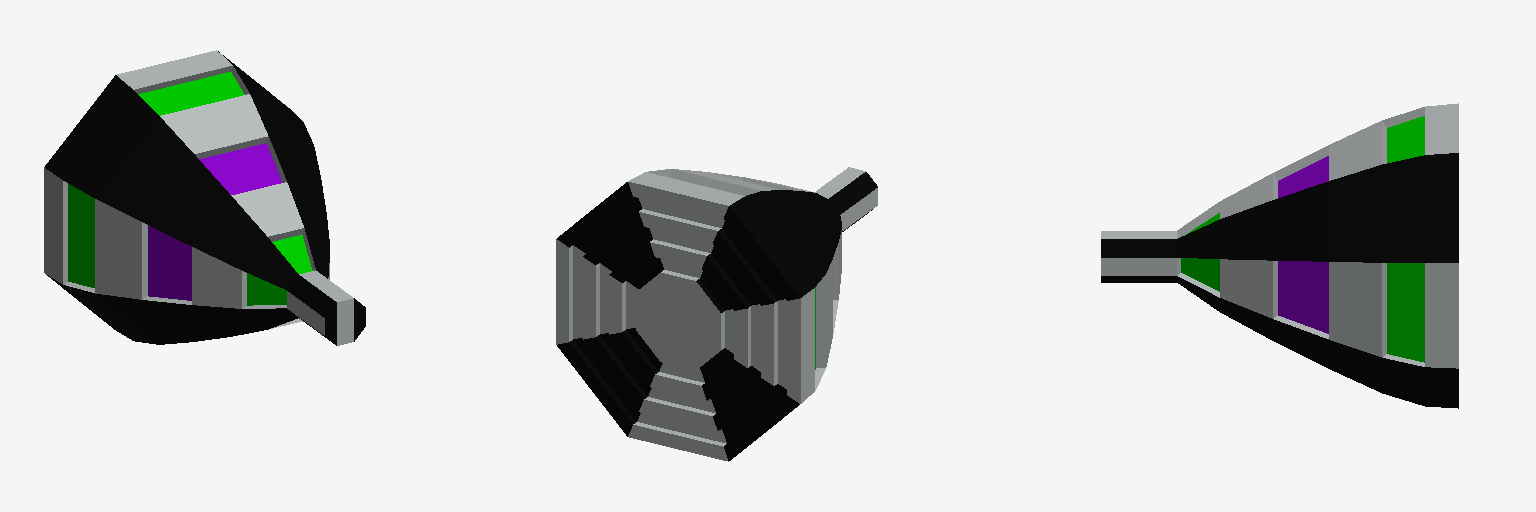
Rendered from gun3.obj.
3 renders of one model, left to right at view 1: azimuth 30°, elevation 25°; view 2: azimuth 150°, elevation 25°; view 3: azimuth 270°, elevation 25°, orthographic.
Visible parts, largest first — view 1: Cube.003; view 2: Cube.003; view 3: Cube.003.
Part boxes in pixels (x1,y1,x2,y2): Cube.003: (44,50,365,345); Cube.003: (556,167,877,461); Cube.003: (1101,103,1458,408).
Size of the model in its own units: 1.85 by 1.85 by 2.35.